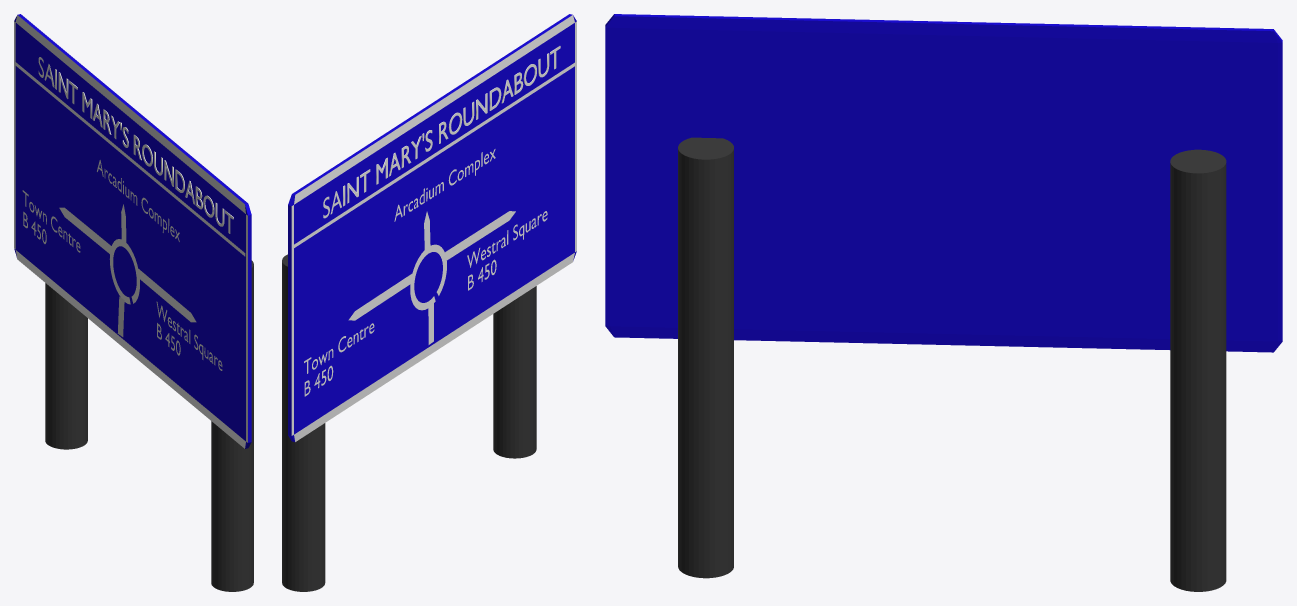
The model's file is RoundaboutSignSTR3.fbx.
3 renders of one model, left to right at view 1: azimuth 30°, elevation 25°; view 2: azimuth 150°, elevation 25°; view 3: azimuth 270°, elevation 25°, orthographic. The views are drawn at different scales.
Visible parts, largest first — view 1: Cube.030, Cylinder.001, Cylinder.002, STMRoundabout, DashedLine, WSQUARE, RoundelM, RightArrowM, ARCADIUMCOMPLEX, TOWNCENTRE, LeftArrowM; view 2: Cube.030, Cylinder.002, Cylinder.001, STMRoundabout, DashedLine, WSQUARE, RoundelM, RightArrowM, TOWNCENTRE, ARCADIUMCOMPLEX, LeftArrowM; view 3: Cube.030, Cylinder.002, Cylinder.001.
Part boxes in pixels (box(x1,y1,x2,y2)): Cube.030: box(14, 14, 251, 448); Cylinder.001: box(211, 260, 253, 591); Cylinder.002: box(45, 283, 87, 449); STMRoundabout: box(38, 57, 233, 233); DashedLine: box(14, 61, 245, 256); WSQUARE: box(156, 301, 222, 370); RoundelM: box(109, 239, 139, 304); RightArrowM: box(137, 268, 196, 322); ARCADIUMCOMPLEX: box(97, 160, 179, 241); TOWNCENTRE: box(22, 190, 80, 252); LeftArrowM: box(59, 207, 111, 253); Cube.030: box(288, 14, 576, 442); Cylinder.002: box(282, 254, 325, 591); Cylinder.001: box(493, 286, 536, 458); STMRoundabout: box(323, 46, 560, 218); DashedLine: box(294, 62, 575, 247); WSQUARE: box(467, 211, 547, 290); RoundelM: box(410, 244, 446, 310); RightArrowM: box(444, 211, 515, 262); TOWNCENTRE: box(304, 323, 374, 396); ARCADIUMCOMPLEX: box(394, 149, 495, 221); LeftArrowM: box(348, 273, 412, 320); Cube.030: box(605, 14, 1282, 352); Cylinder.002: box(1170, 149, 1226, 591); Cylinder.001: box(678, 137, 733, 578).
Bounding box in the file's own units: 109 × 670 × 765.
